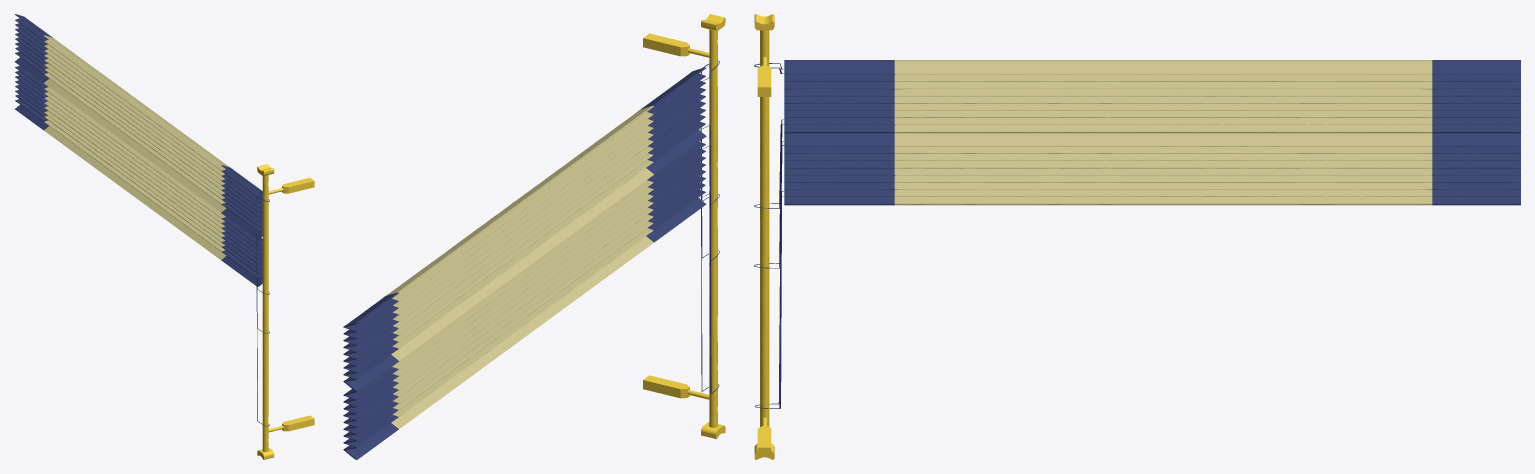
The model's file is curtain_left.obj.
The picture shows the model from 3 angles, left to right: view 1: azimuth 30°, elevation 25°; view 2: azimuth 150°, elevation 25°; view 3: azimuth 270°, elevation 25°; orthographic projection. The views are drawn at different scales.
Parts seen in each view (by area): view 1: curtain_left; view 2: curtain_left; view 3: curtain_left.
Boxes of the visible parts, left/top/right/bottom form: curtain_left: left=14, top=14, right=314, bottom=459; curtain_left: left=343, top=14, right=725, bottom=459; curtain_left: left=754, top=14, right=1520, bottom=459.
Bounding box in the file's own units: 0.2461 × 1.31 × 2.08.
